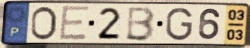2: (97, 6, 124, 41)
6: (197, 7, 222, 41)
B: (124, 6, 157, 43)
E: (58, 5, 91, 43)
G: (165, 6, 195, 42)
O: (29, 5, 59, 41)
